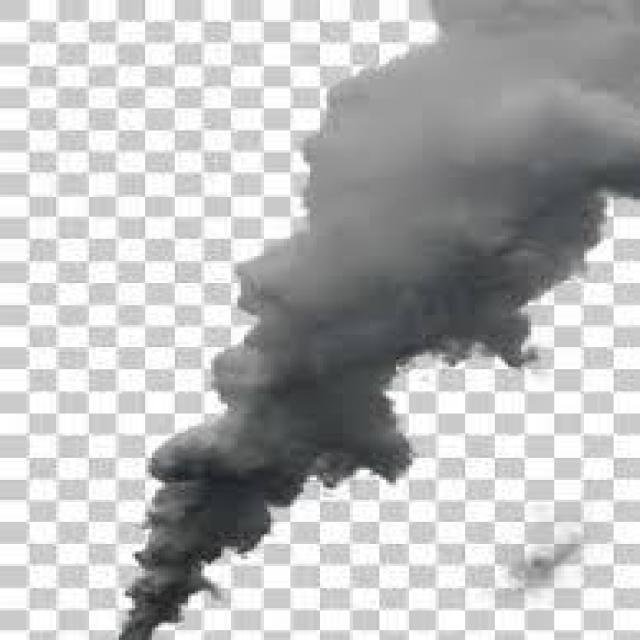Smoke: (283, 0, 640, 231), (122, 399, 403, 640), (220, 232, 570, 374)
